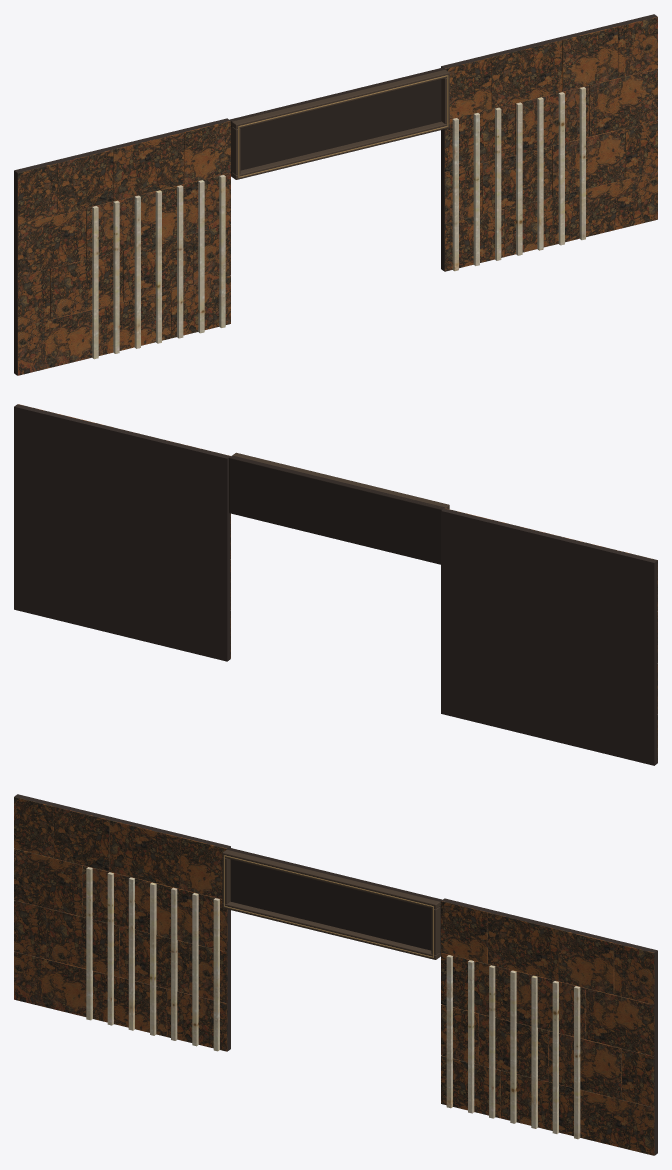
The model's file is arkade-entrance-facade.glb.
3 renders of one model, top to bottom at view 1: azimuth 30°, elevation 25°; view 2: azimuth 150°, elevation 25°; view 3: azimuth 330°, elevation 25°, orthographic.
Parts seen in each view (by area): view 1: Staggered stone cladding, Cream stone entrance bars, Recessed sign panel, Horizontal bronze frame.001, Horizontal bronze frame, Facade backing, Facade backing.001; view 2: Facade backing, Facade backing.001, Recessed sign panel, Horizontal bronze frame.001, Staggered stone cladding; view 3: Staggered stone cladding, Cream stone entrance bars, Recessed sign panel, Horizontal bronze frame.001, Horizontal bronze frame, Facade backing.001, Facade backing.
Boxes of the visible parts, x1=… form: Staggered stone cladding: x1=17, y1=16, x2=657, y2=375; Cream stone entrance bars: x1=92, y1=87, x2=585, y2=359; Recessed sign panel: x1=229, y1=67, x2=444, y2=176; Horizontal bronze frame.001: x1=231, y1=69, x2=449, y2=129; Horizontal bronze frame: x1=231, y1=121, x2=449, y2=179; Facade backing: x1=14, y1=118, x2=230, y2=375; Facade backing.001: x1=441, y1=14, x2=657, y2=271; Facade backing: x1=441, y1=508, x2=657, y2=765; Facade backing.001: x1=14, y1=404, x2=230, y2=661; Recessed sign panel: x1=229, y1=455, x2=445, y2=564; Horizontal bronze frame.001: x1=232, y1=452, x2=449, y2=508; Staggered stone cladding: x1=18, y1=404, x2=657, y2=762; Staggered stone cladding: x1=14, y1=796, x2=654, y2=1155; Cream stone entrance bars: x1=86, y1=867, x2=580, y2=1139; Recessed sign panel: x1=227, y1=847, x2=442, y2=956; Horizontal bronze frame.001: x1=222, y1=849, x2=440, y2=909; Horizontal bronze frame: x1=222, y1=901, x2=440, y2=959; Facade backing.001: x1=441, y1=898, x2=657, y2=1155; Facade backing: x1=14, y1=794, x2=230, y2=1051.
Size of the model in its own units: 14.2 by 4.3 by 0.351.
6 materials, 2 textured.
